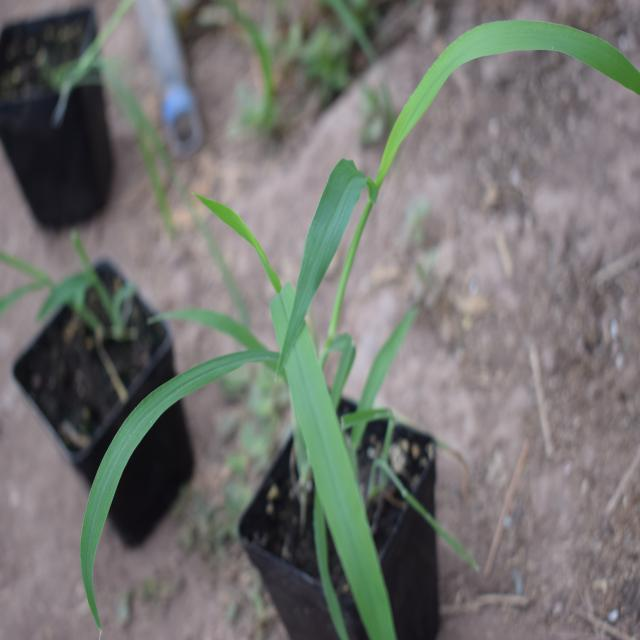crabgrass: (85, 117, 435, 631)
